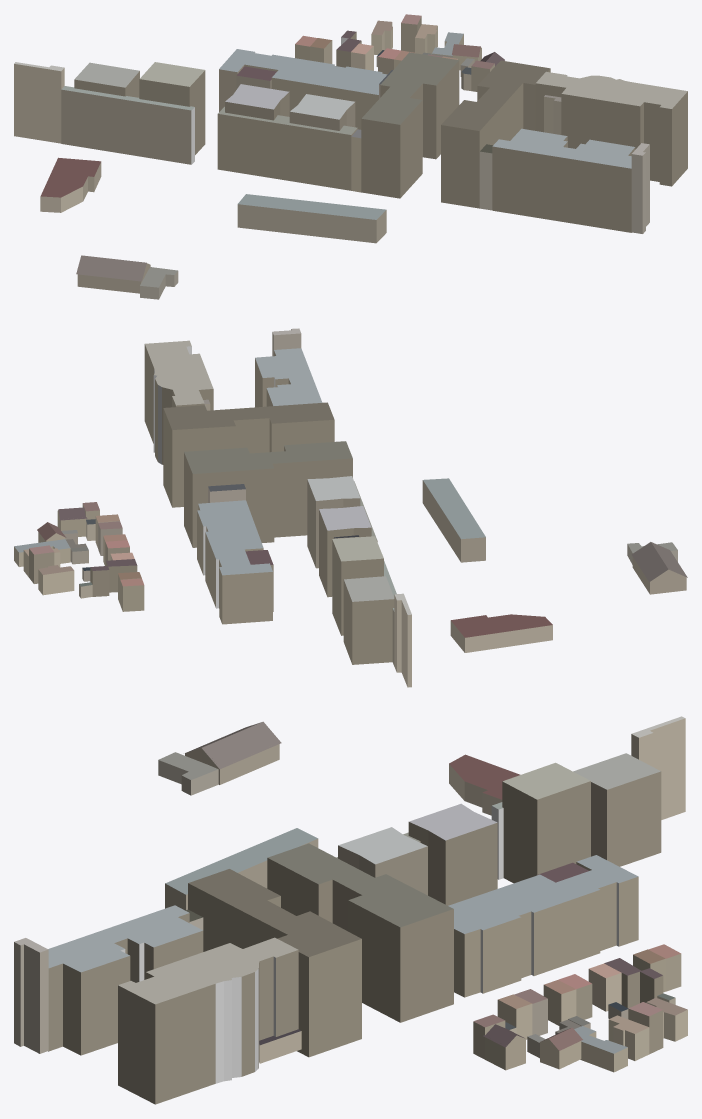
The picture shows the model from 3 angles, top to bottom: view 1: azimuth 30°, elevation 25°; view 2: azimuth 150°, elevation 25°; view 3: azimuth 270°, elevation 25°; orthographic projection. The views are drawn at different scales.
Parts seen in each view (by area): view 1: tuile; view 2: tuile; view 3: tuile.
Boxes of the visible parts, box(x1,y1,x2,y2) form: tuile: box(14, 14, 687, 299); tuile: box(14, 328, 687, 687); tuile: box(14, 716, 687, 1104).
Bounding box in the file's own units: 210 × 27.98 × 164.
